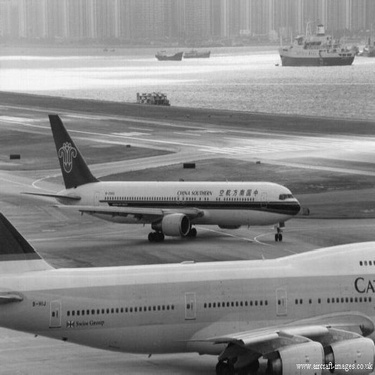airplane: (1, 199, 361, 362), (11, 99, 321, 244)
